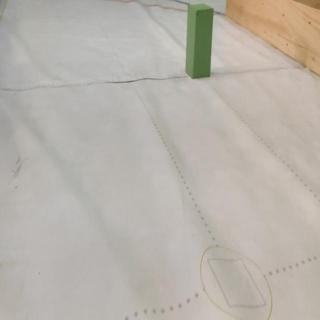greenbox: (185, 1, 214, 78)
